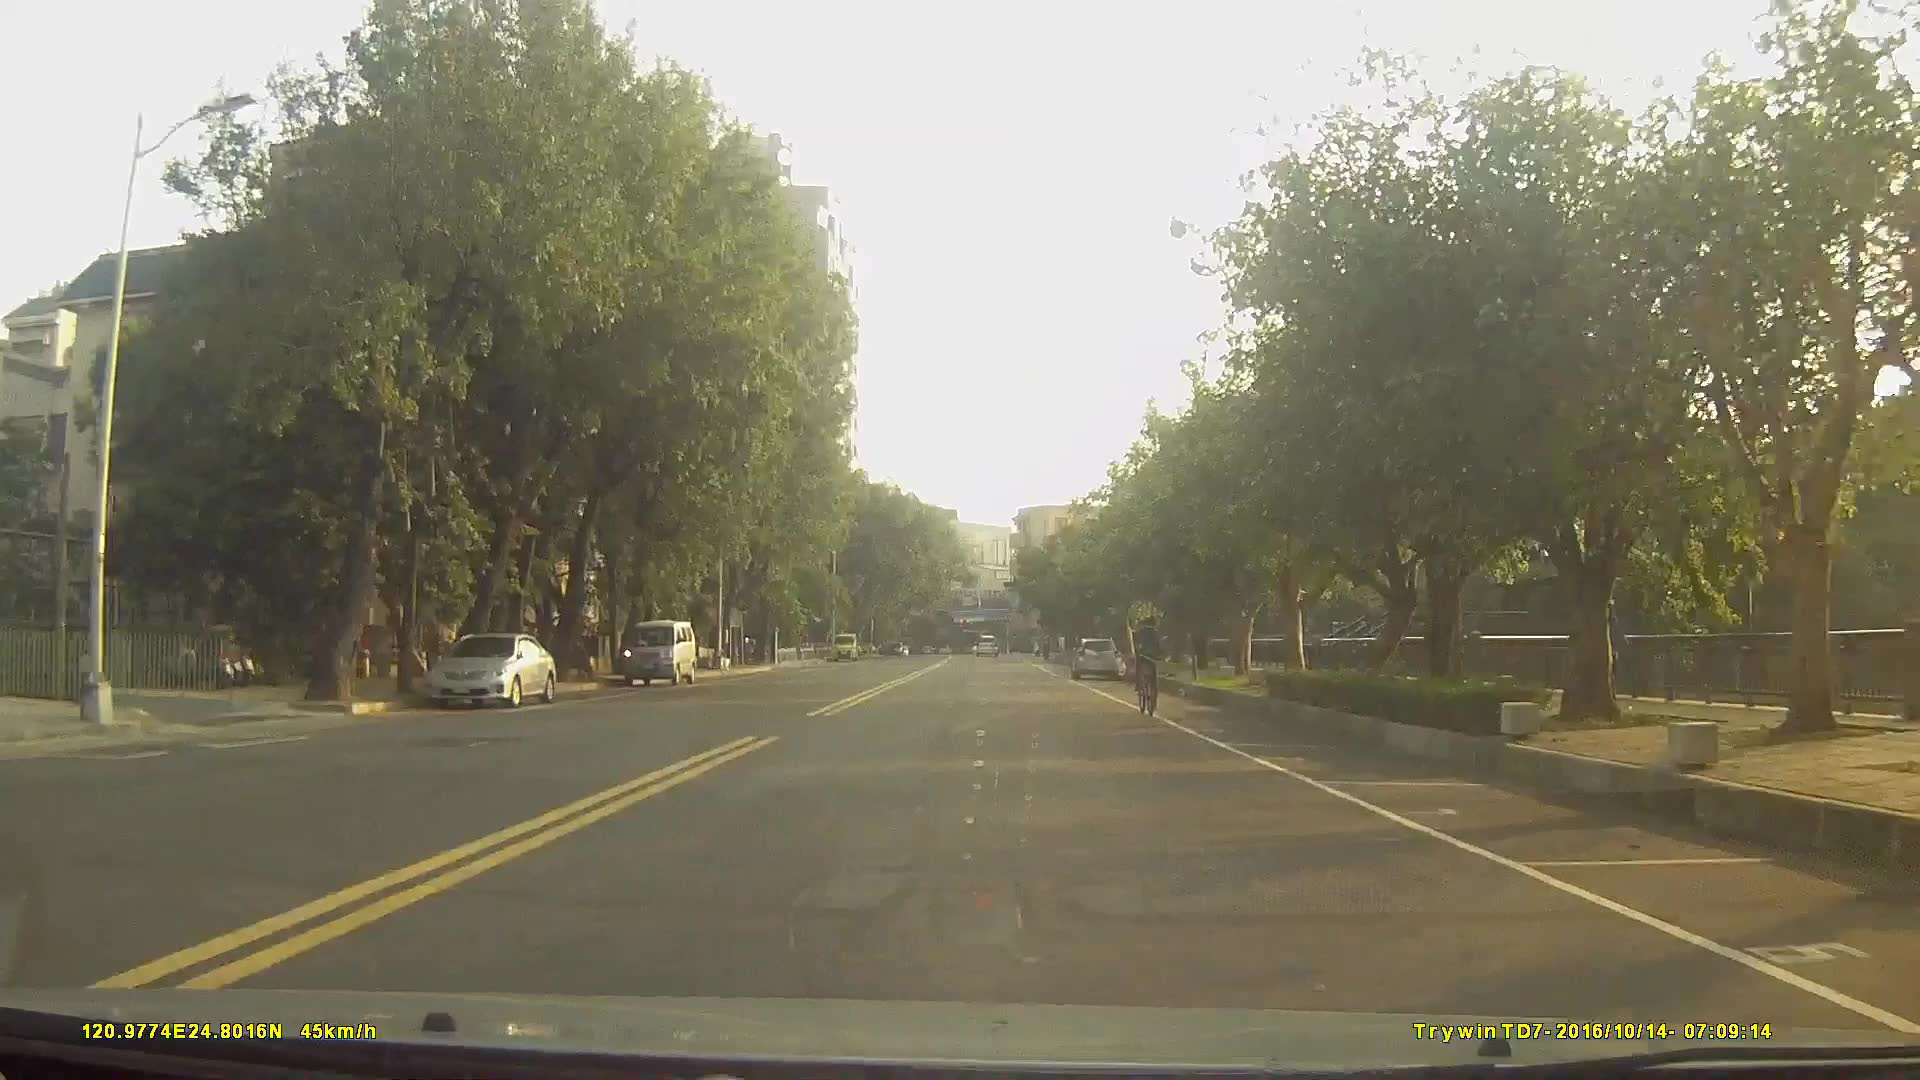rider: (1131, 613, 1166, 715)
vehicle: (421, 628, 554, 706), (620, 615, 696, 682), (1069, 636, 1122, 681), (974, 629, 999, 655)
